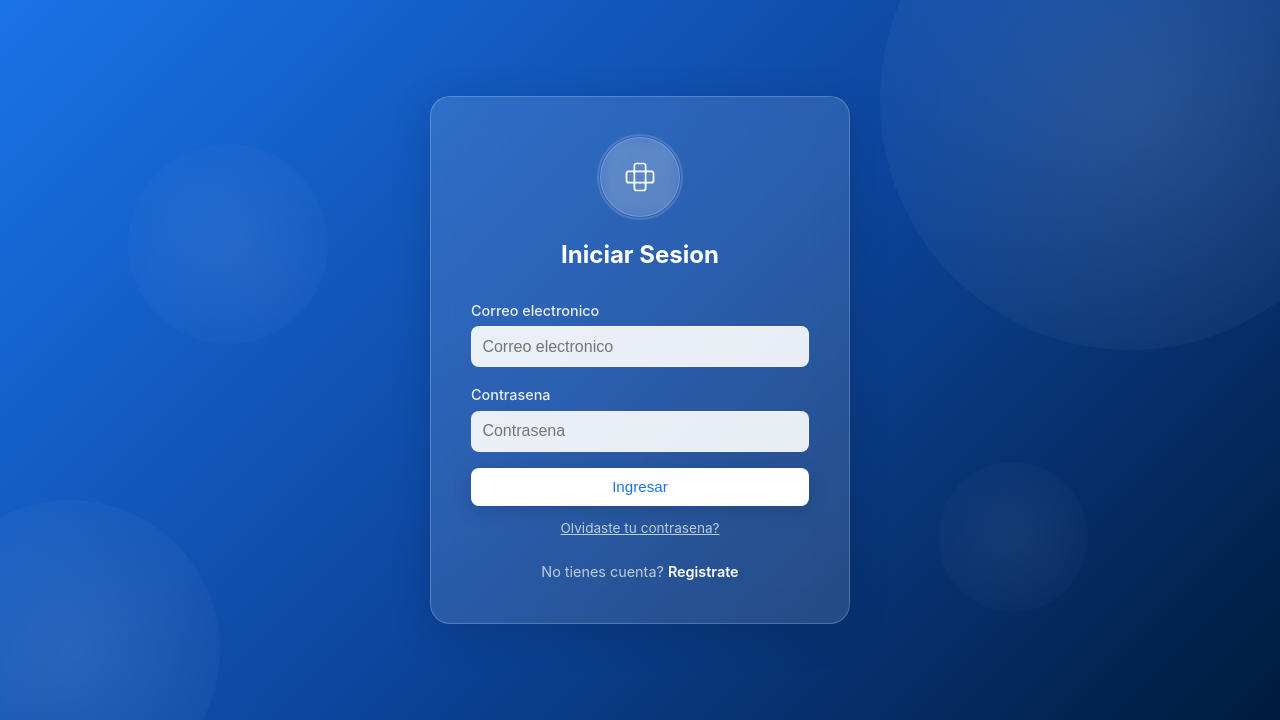
Test case: Login Page › shows validation errors on empty submit
Click the button "Ingresar" at (640, 487), box left=471, top=468, right=809, bottom=506
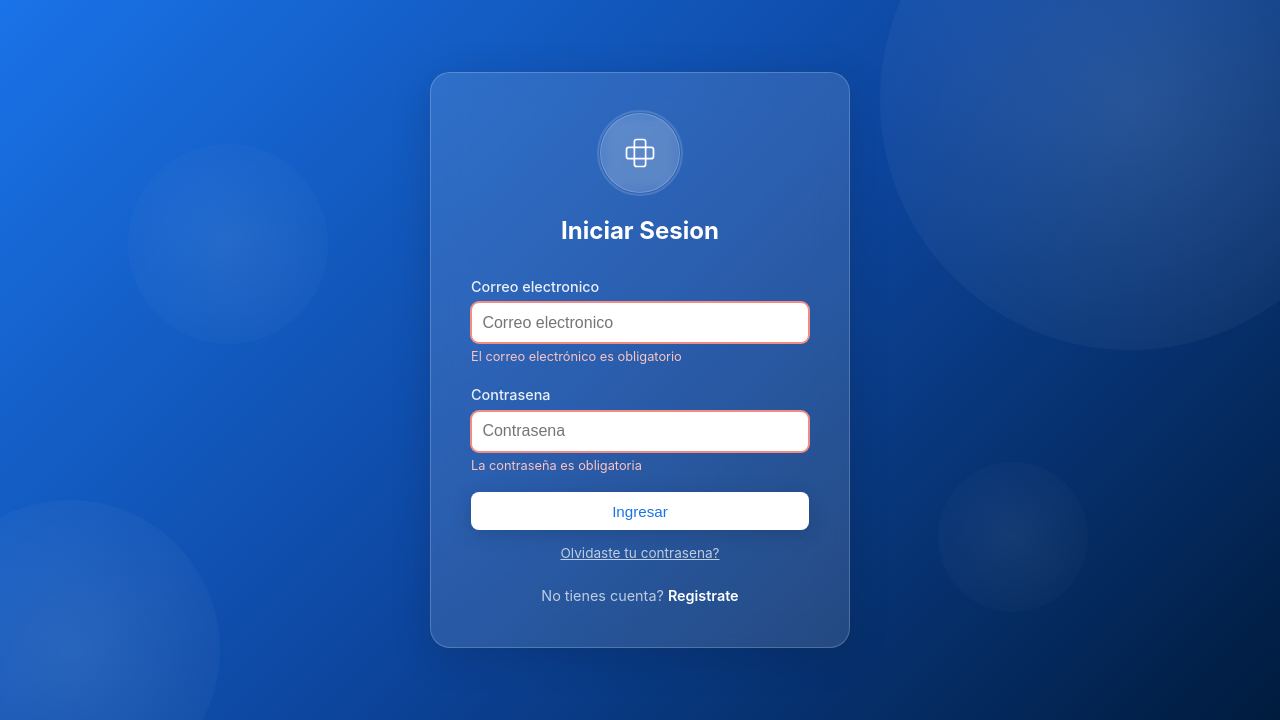
Result: the text "El correo electrónico es obligatorio" is shown at left=471, top=349, right=682, bottom=364
Result: the text "La contraseña es obligatoria" is shown at left=471, top=458, right=642, bottom=473
